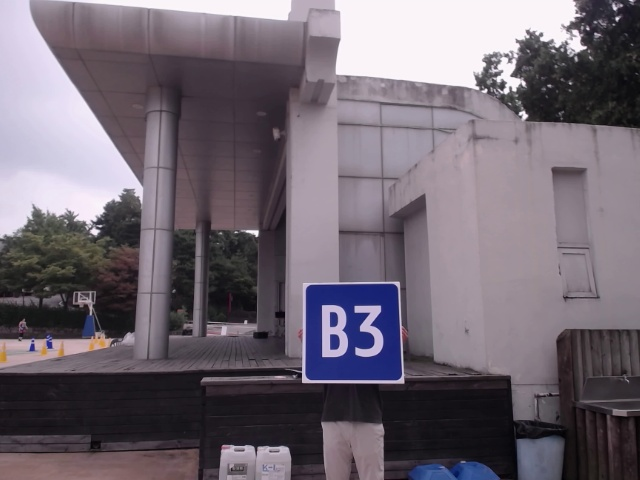delivery_b3: (304, 282, 401, 382)
